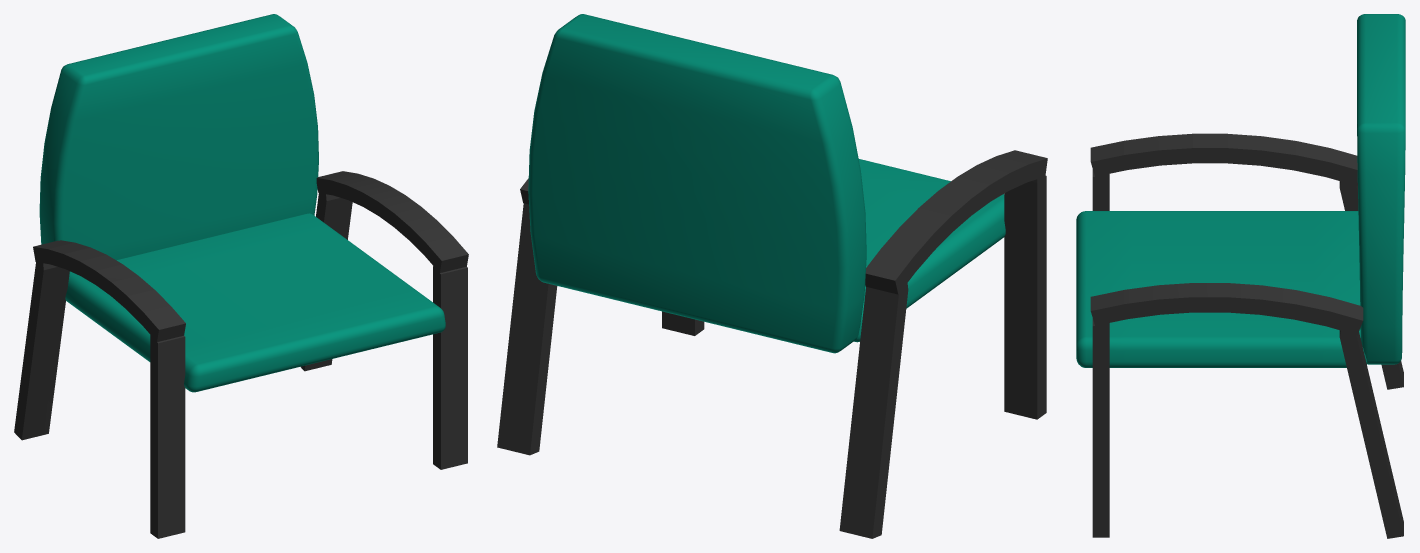
The model's file is Chair.FBX.
3 views of the same model, side by side, from view 1: azimuth 30°, elevation 25°; view 2: azimuth 150°, elevation 25°; view 3: azimuth 270°, elevation 25° (orthographic). The views are drawn at different scales.
Visible parts, largest first — view 1: ChamferBox001, Box006; view 2: ChamferBox001, Box006; view 3: ChamferBox001, Box006.
Boxes of the visible parts, bbox=[...] form: ChamferBox001: bbox=[39, 14, 445, 392]; Box006: bbox=[14, 171, 468, 538]; ChamferBox001: bbox=[528, 14, 1005, 353]; Box006: bbox=[497, 150, 1047, 538]; ChamferBox001: bbox=[1076, 14, 1405, 367]; Box006: bbox=[1090, 133, 1403, 538].
Bounding box in the file's own units: 55.52 × 61.55 × 47.31.
